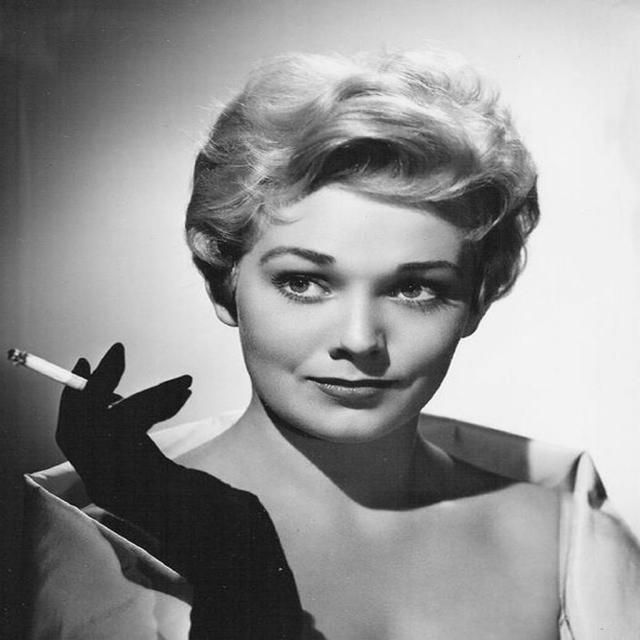smoking: (3, 42, 559, 464)
